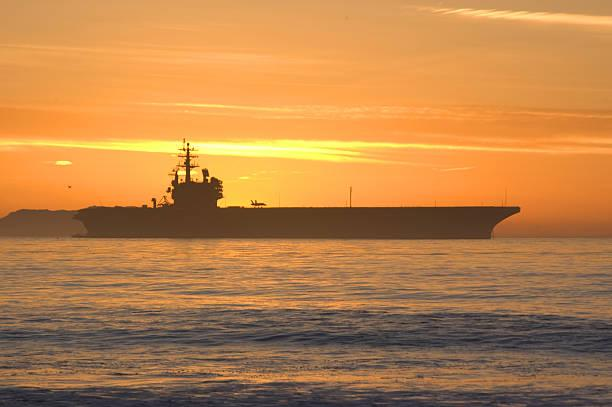MIL_Ship: (72, 142, 521, 239)
